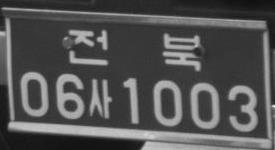0: (151, 78, 183, 127), (19, 69, 50, 118), (189, 81, 220, 130)
1: (120, 77, 147, 125)
3: (227, 84, 259, 133)
6: (55, 72, 86, 120)
사: (86, 77, 112, 119)
전북_D: (66, 27, 202, 72)
